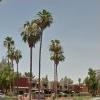Palm tree: (20, 5, 68, 80)
